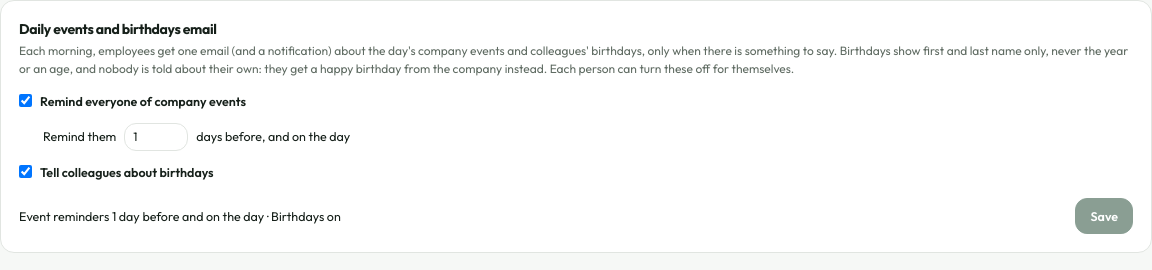
Daily events and birthdays email settings › reminds a day before by default; HR changes the days and turns birthdays off
Later steps or results of the test are not shown.
Expected: the text "Event reminders 1 day before and on the day · Birthdays on" is shown, [19,206,341,225]
Expected: the button "Save" is disabled, [1076,198,1133,234]
Replace the text in the number field named "Days before an event" with "3": {"x": 156, "y": 137} [124,123,188,151]
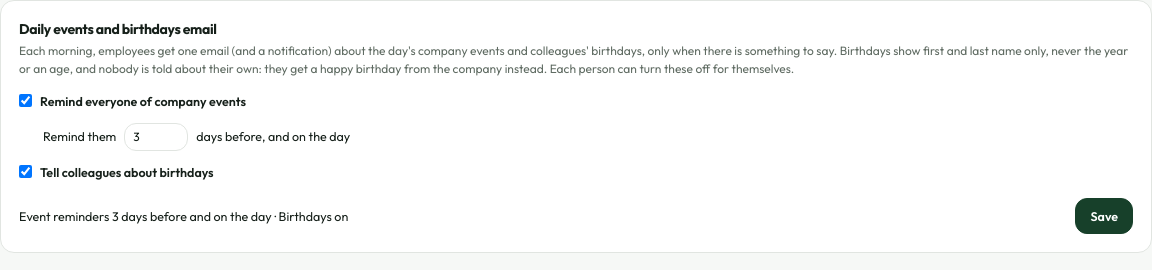
Click the checkbox labelled "Tell colleagues about birthdays": {"x": 26, "y": 171} [19,165,32,178]
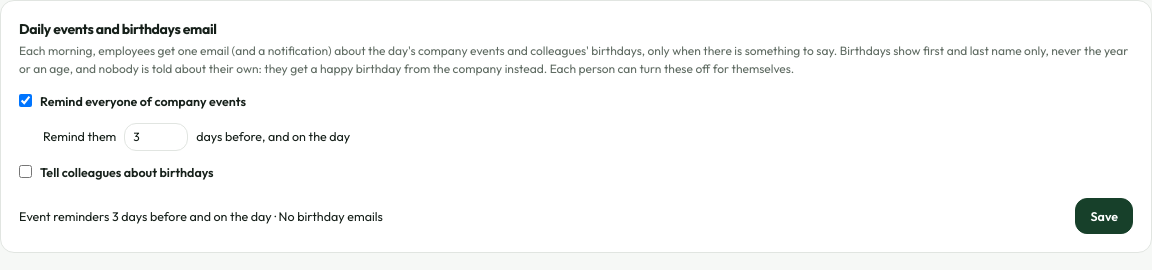
Expected: the text "Event reminders 3 days before and on the day · No birthday emails" is shown, [19,206,383,225]
